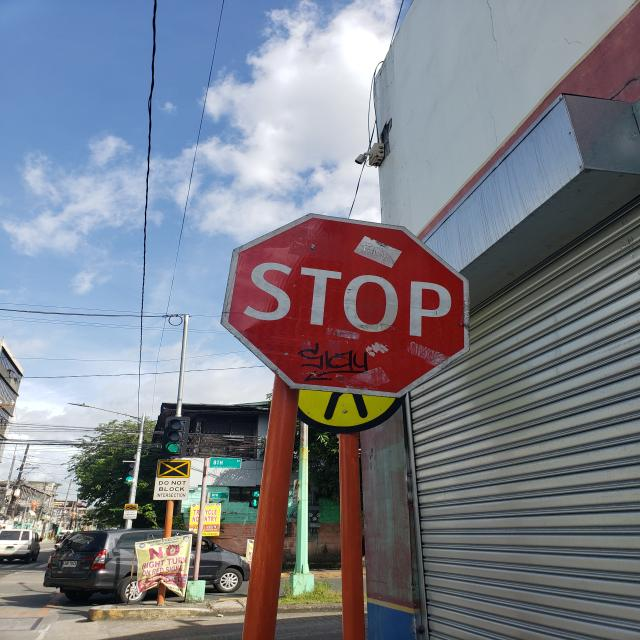stop-sign: (220, 212, 470, 398)
